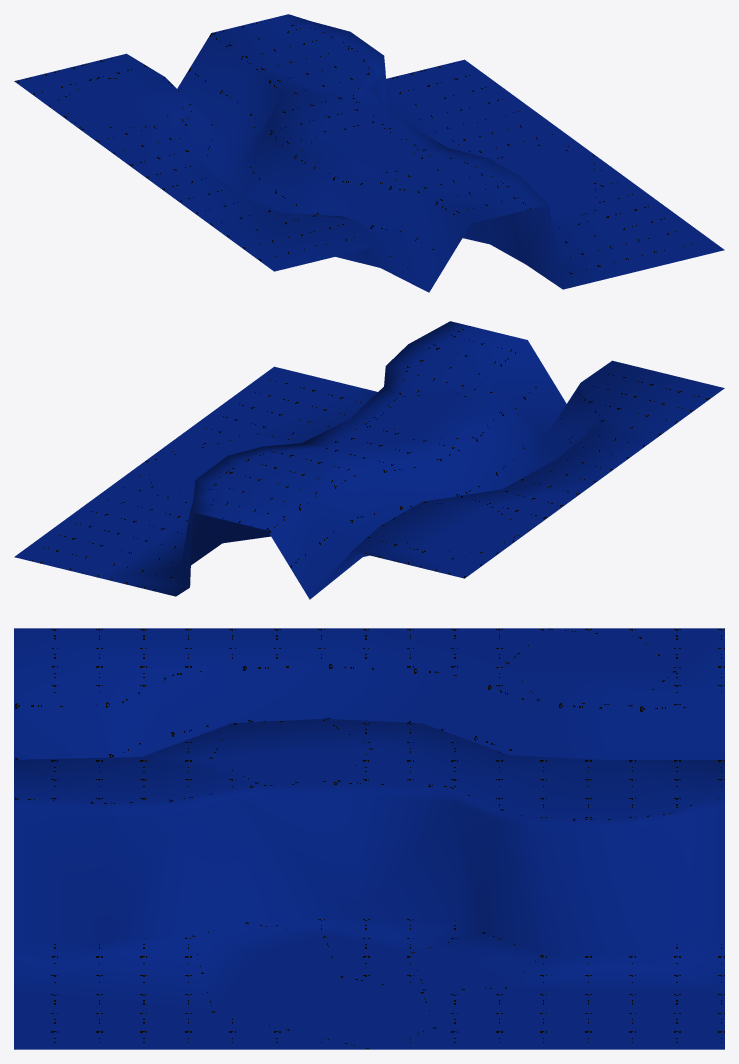
File: GRD_S_C3_R1_1.fbx
3 views of the same model, one above another, from view 1: azimuth 30°, elevation 25°; view 2: azimuth 150°, elevation 25°; view 3: azimuth 270°, elevation 25° (orthographic). The views are drawn at different scales.
Parts seen in each view (by area): view 1: material_00012000, material_C0032000, material_C0022000, material_00042000; view 2: material_00012000, material_C0032000, material_C0022000, material_00042000; view 3: material_00012000, material_00042000, material_C0022000, material_C0032000.
Boxes of the visible parts, x1,y1,x2,y2 form: material_00012000: [14, 19, 724, 289]; material_C0032000: [177, 33, 471, 292]; material_C0022000: [57, 77, 597, 224]; material_00042000: [268, 14, 562, 289]; material_00012000: [14, 326, 724, 596]; material_C0032000: [267, 340, 600, 599]; material_C0022000: [144, 392, 529, 552]; material_00042000: [176, 321, 470, 596]; material_00012000: [14, 628, 724, 1049]; material_00042000: [14, 781, 724, 955]; material_C0022000: [190, 628, 677, 1049]; material_C0032000: [14, 663, 724, 760].
Size of the model in its own units: 12800 by 2400 by 12800.
